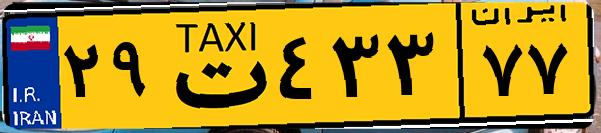2: (57, 26, 110, 100)
3: (385, 28, 445, 110), (330, 28, 385, 110)
4: (270, 28, 330, 110)
7: (475, 38, 525, 113), (525, 38, 570, 115)
9: (110, 28, 158, 98)
ت: (158, 12, 270, 120)
